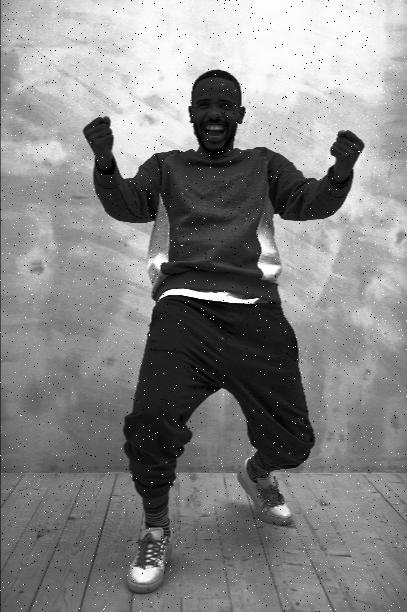Rock: (325, 120, 368, 174), (78, 109, 121, 158)
